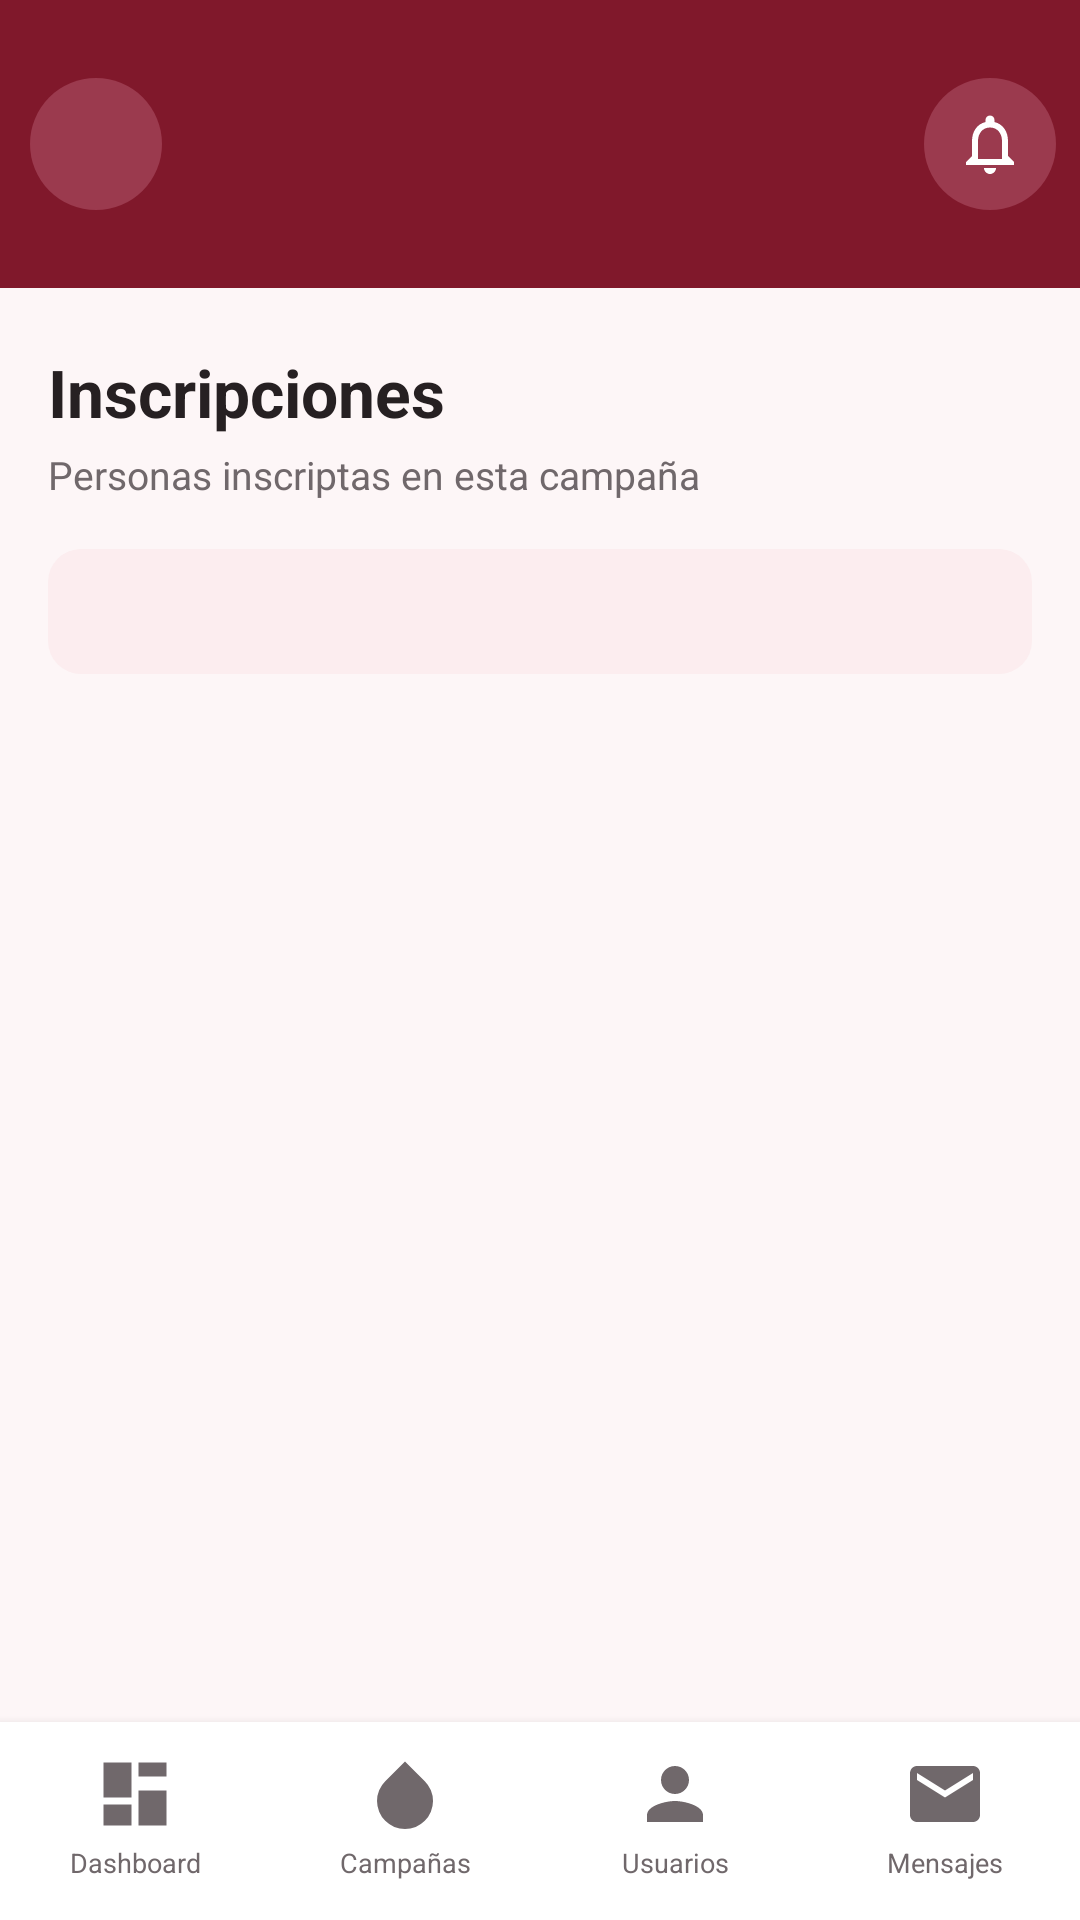

Locate icon controls on the screen. Image size 1080×1920, boxes as (x1, y1, x2, y2).
Notificaciones: (924, 78, 1056, 210)
